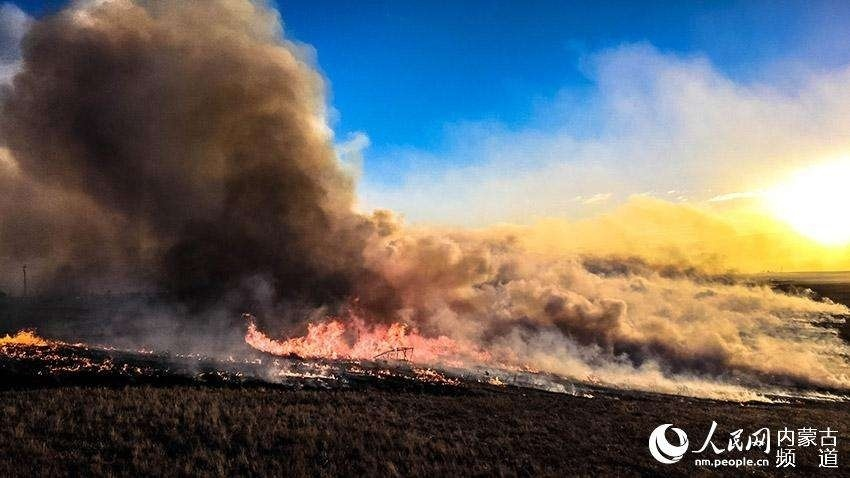fire: (241, 315, 536, 386), (0, 321, 153, 377)
